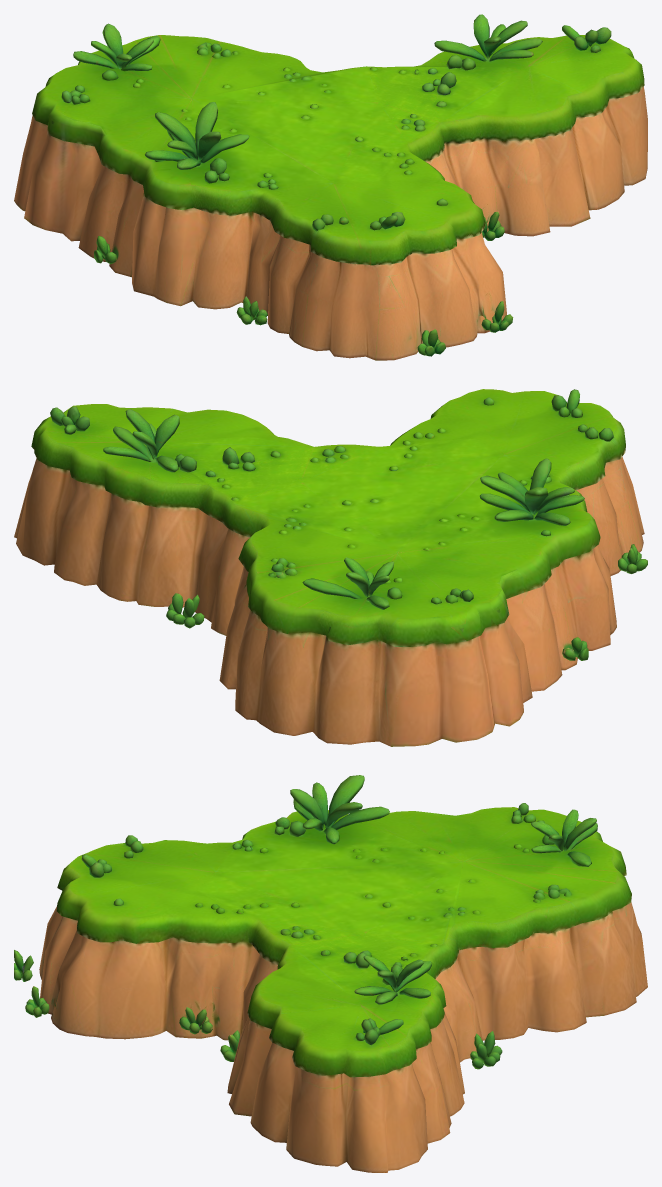
Rendered from s2_r1c5_rounded_bay_terrain.glb.
3 views of the same model, one above another, from view 1: azimuth 30°, elevation 25°; view 2: azimuth 150°, elevation 25°; view 3: azimuth 270°, elevation 25° (orthographic). The views are drawn at different scales.
Size of the model in its own units: 1 by 0.274 by 1.
1 material, 1 textured.
